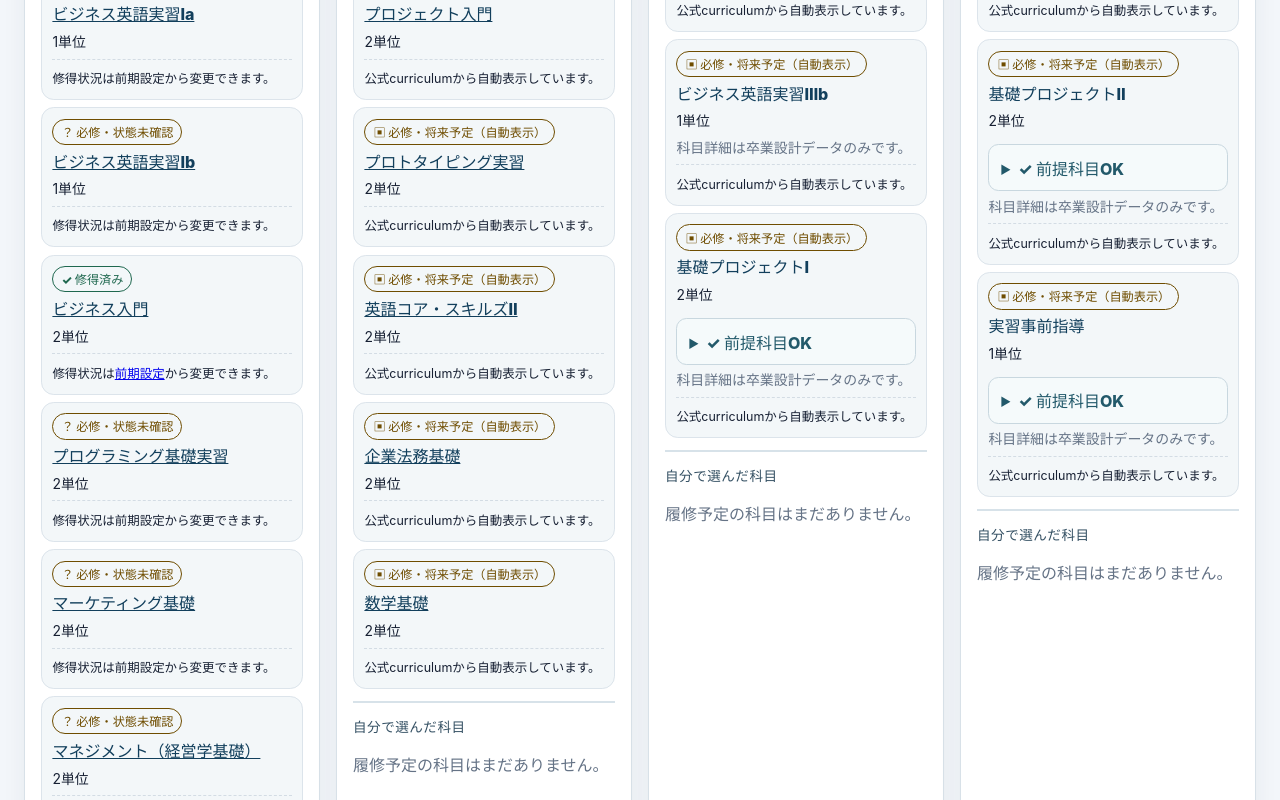
Test case: Phase 12A UI › 自動必修の前提科目をカードへ表示する
(page scrolled)
Click the 3rd heading "✓ 前提科目OK": click(1071, 401) [1018,391,1124,411]
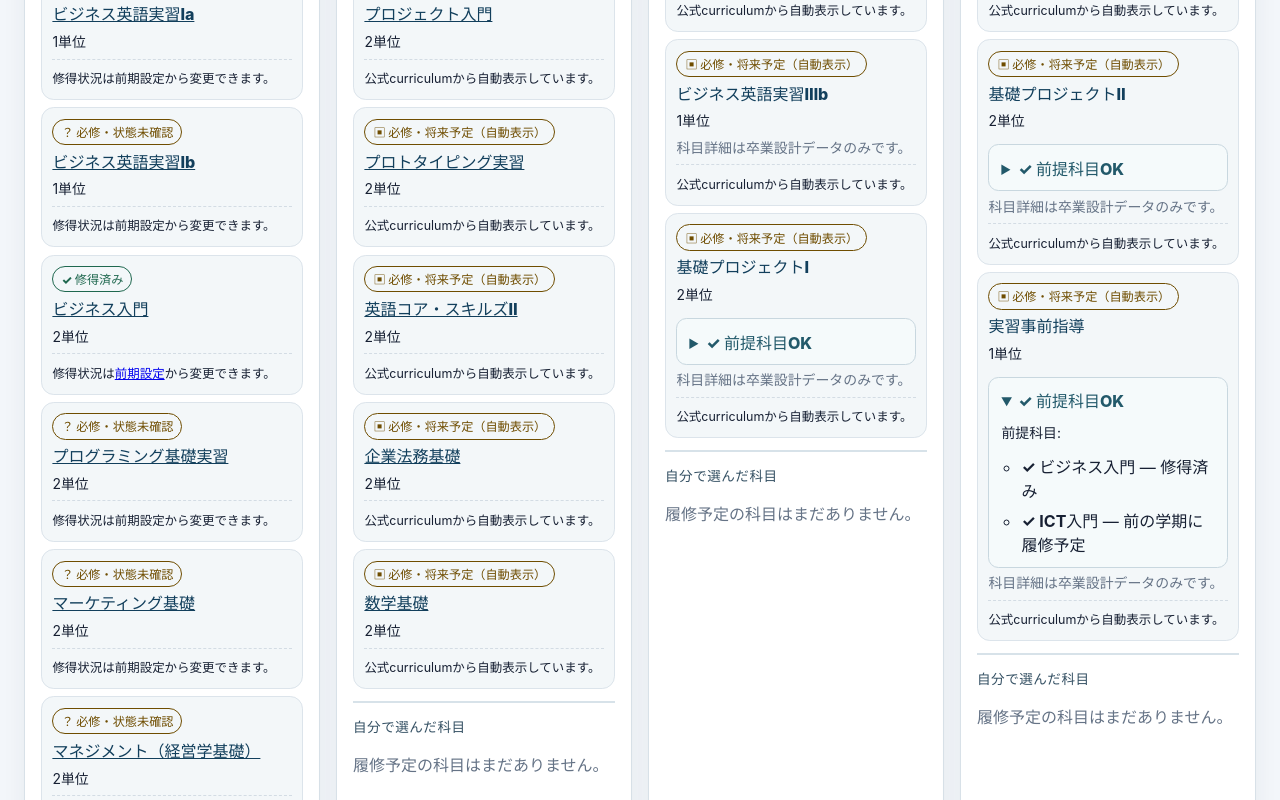
Now the text "✓ ICT入門" is shown, box [1021,511,1098,531]
Now the text "— 前の学期に履修予定" is shown, box [1021,511,1203,555]
